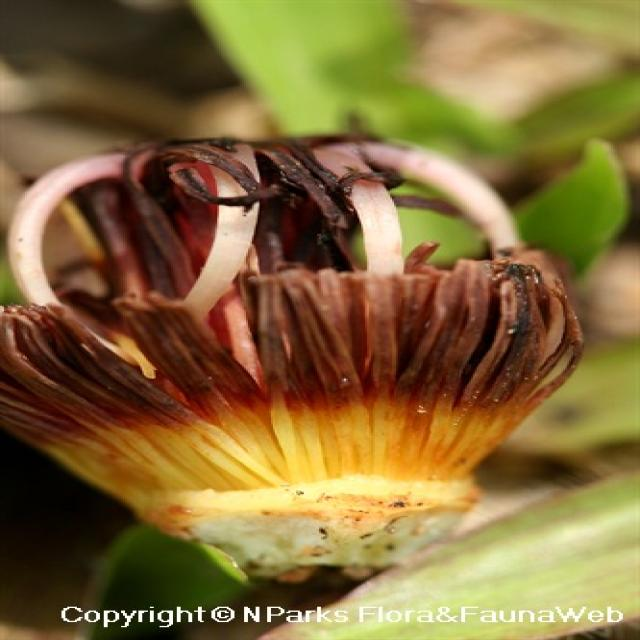Simpoh-Lak: (0, 44, 600, 582)
